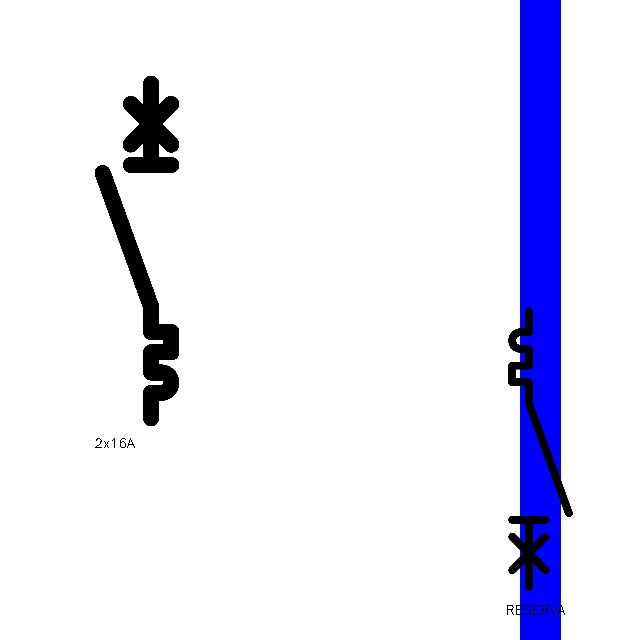interruptor_termomagnetico: (94, 75, 180, 427), (505, 304, 576, 593)
